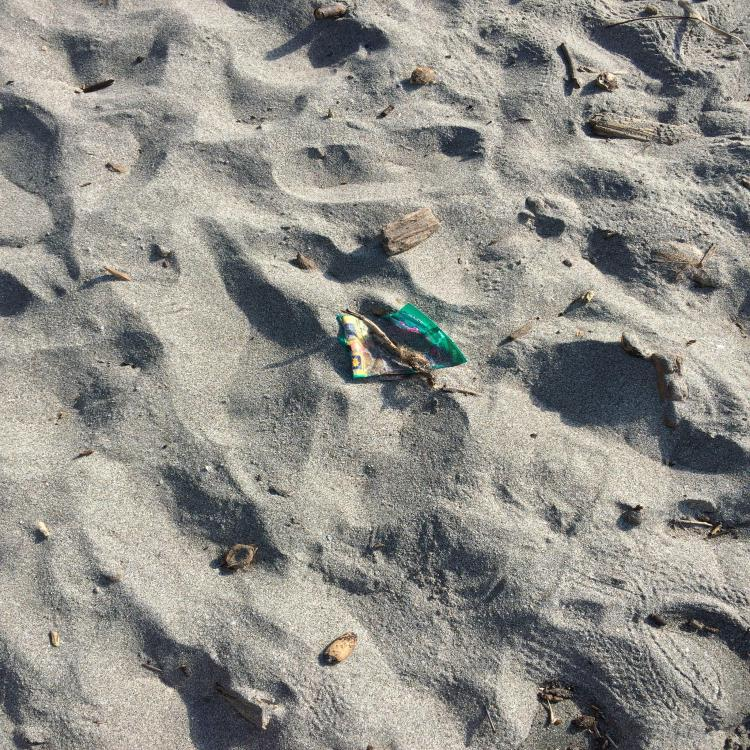Other plastic: (337, 302, 467, 379)
